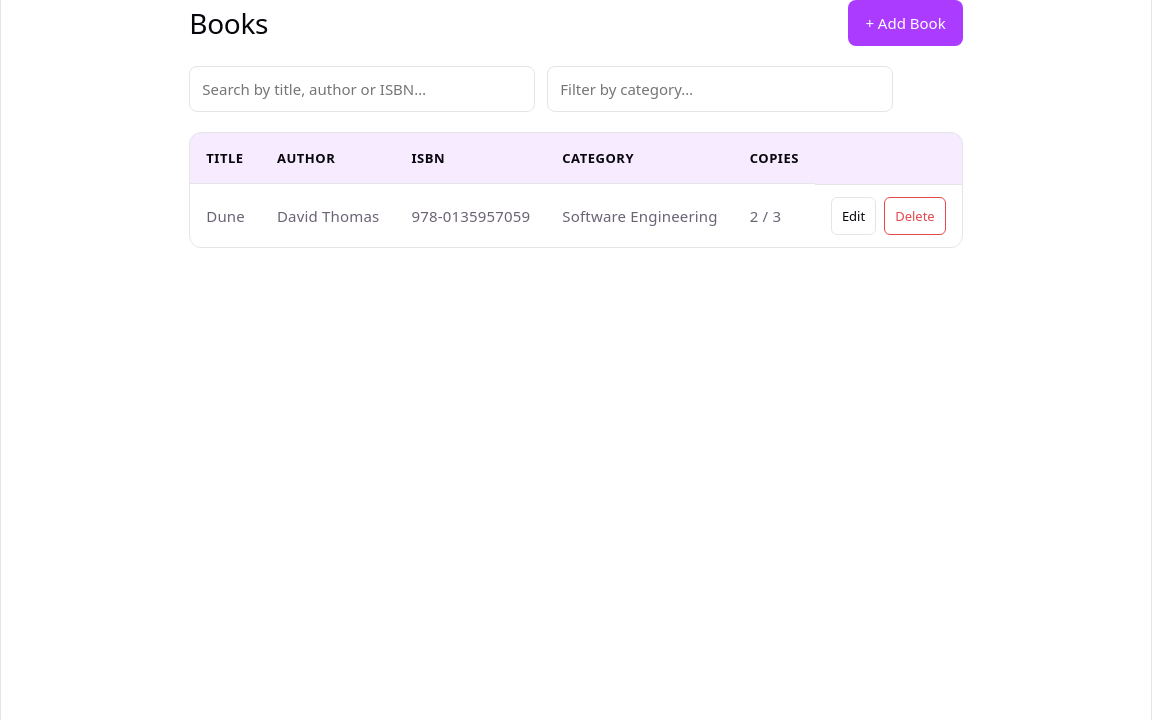
BooksPage › shows a delete-guard error inside the dialog and keeps it open
Expected: the text "Dune" is shown, top-left (190, 184), bottom-right (261, 247)
Click the button "Delete" at (915, 216), box top-left (884, 197), bottom-right (946, 235)
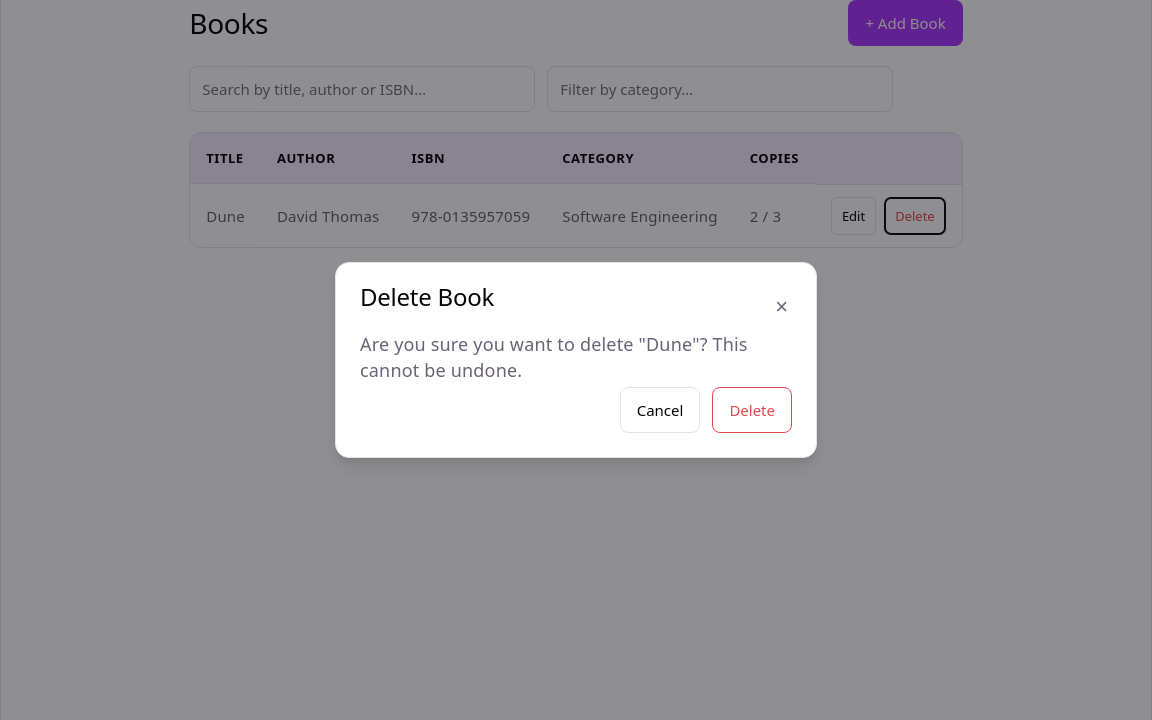
Click the button "Delete" at (752, 410), box top-left (712, 387), bottom-right (792, 433)
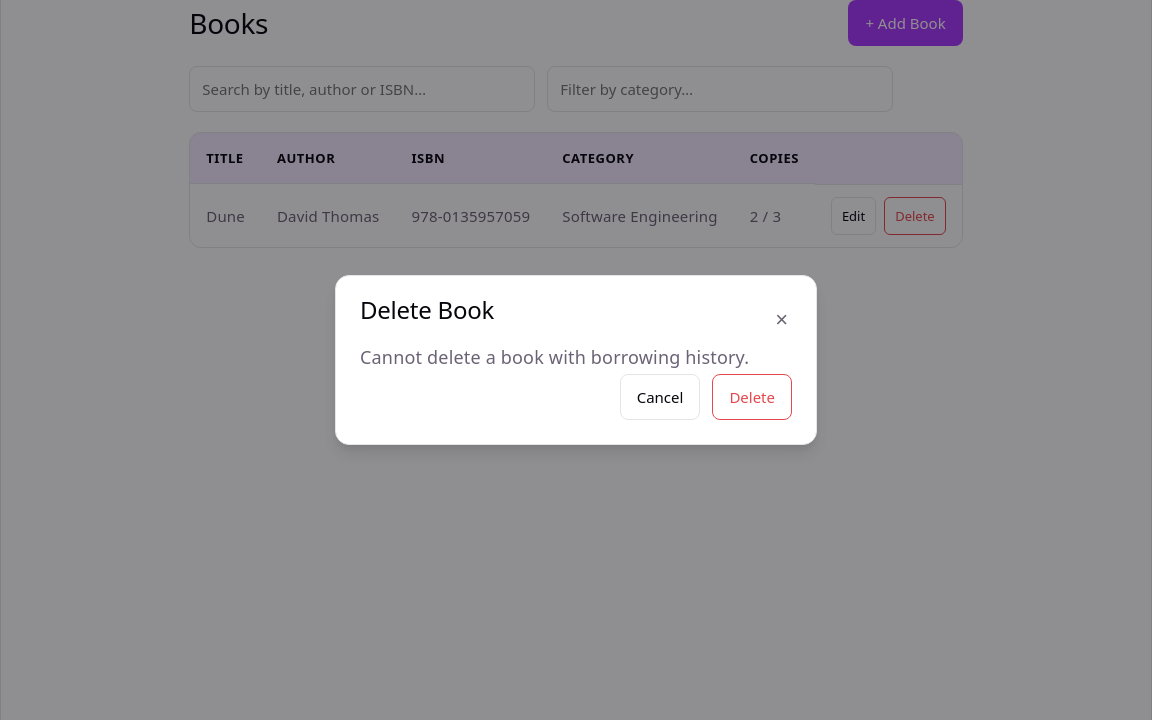
Now the heading "Delete Book" is shown, box top-left (360, 296), bottom-right (494, 324)
Now the text "Cannot delete a book with borrowing history." is shown, box top-left (360, 344), bottom-right (792, 370)
